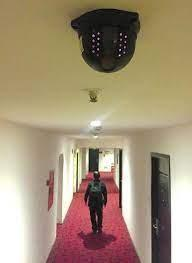maru: (67, 3, 146, 78)
